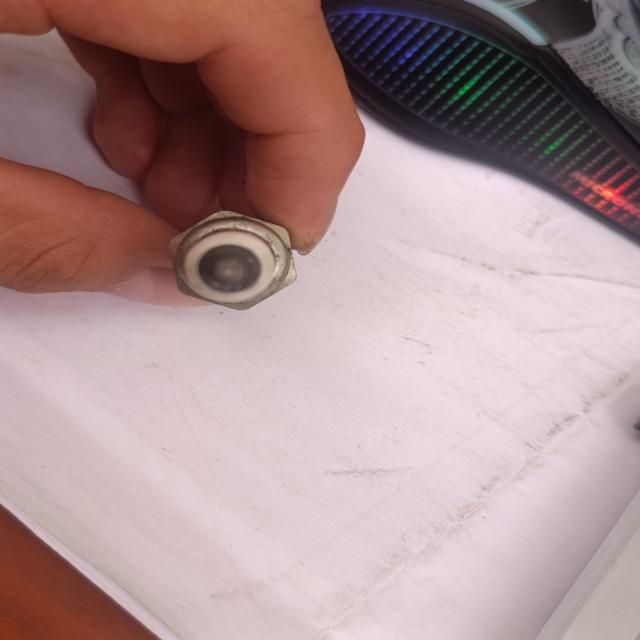bujia: (170, 211, 296, 310)
